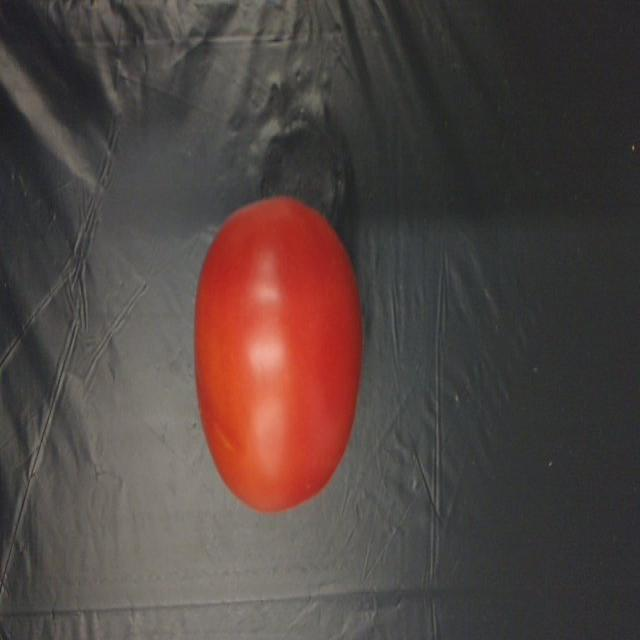kirmizi: (178, 194, 372, 537)
